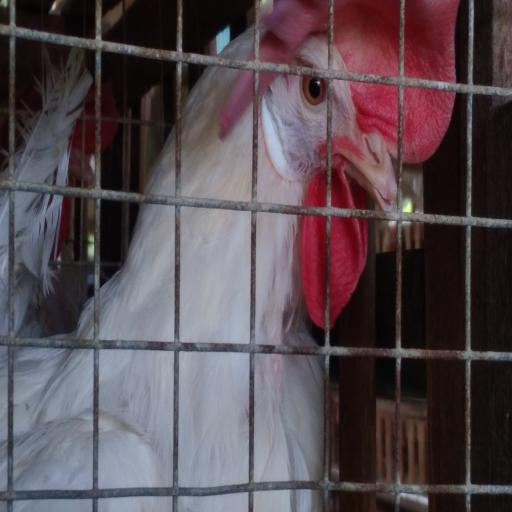healthy: (271, 0, 418, 244)
